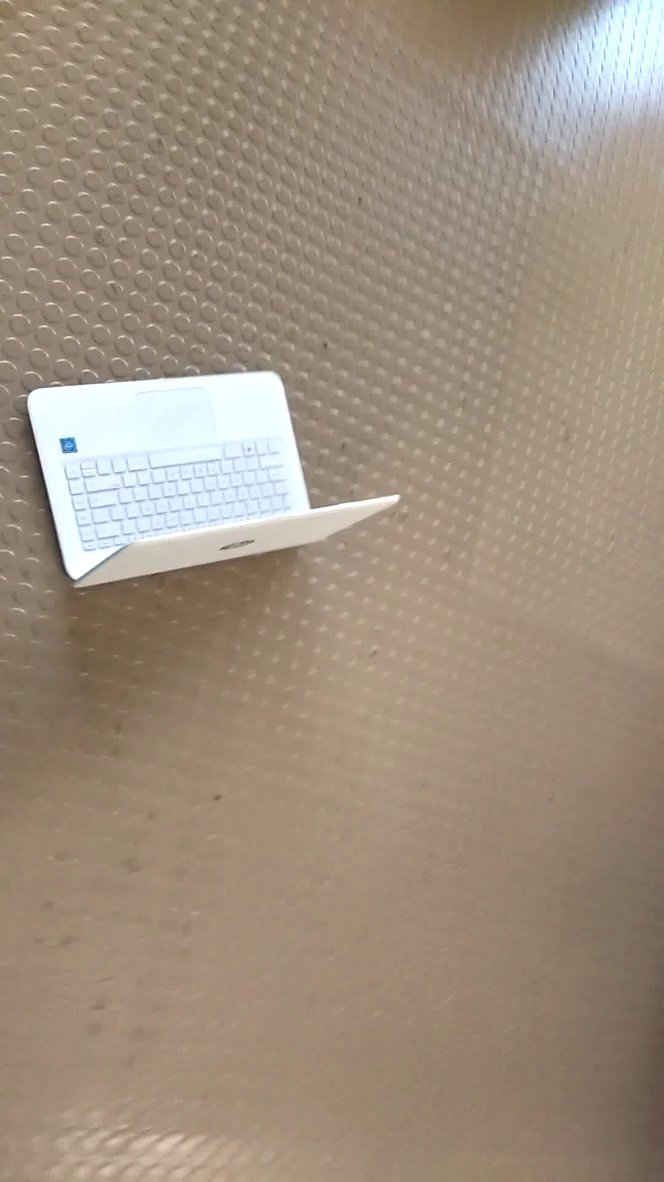laptop: (21, 358, 404, 602)
